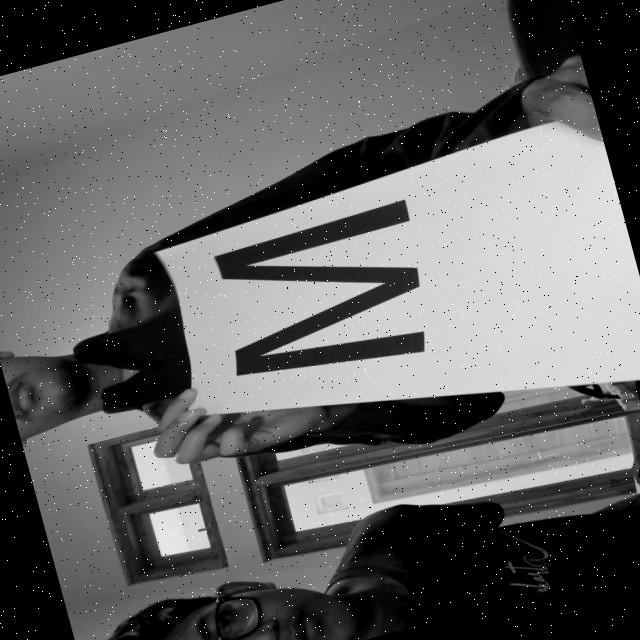m: (164, 155, 509, 439)
